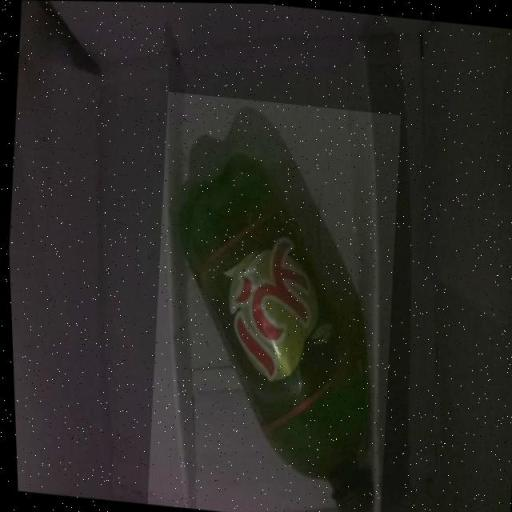plastic: (131, 90, 411, 512)
